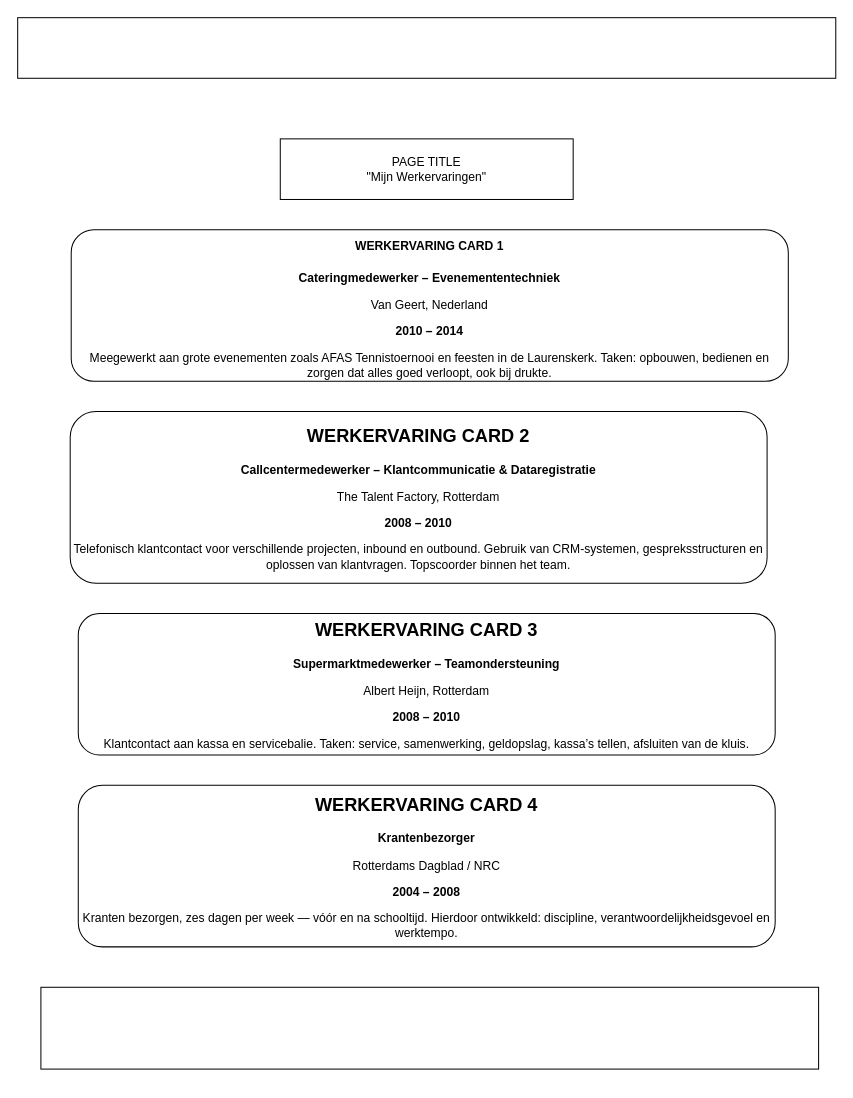
Some shapes in this 853 by 1098 pixel diagram are drawn without their labels. Each missing label, with the centre of its shape:
"FOOTER Tekst + Social Icons (Contact + GitHub)" belongs at point 429,1027.
"HEADER | [Logo] Home | Over mij | Opleidingen | Werkervaring | ..." belongs at point 426,47.
